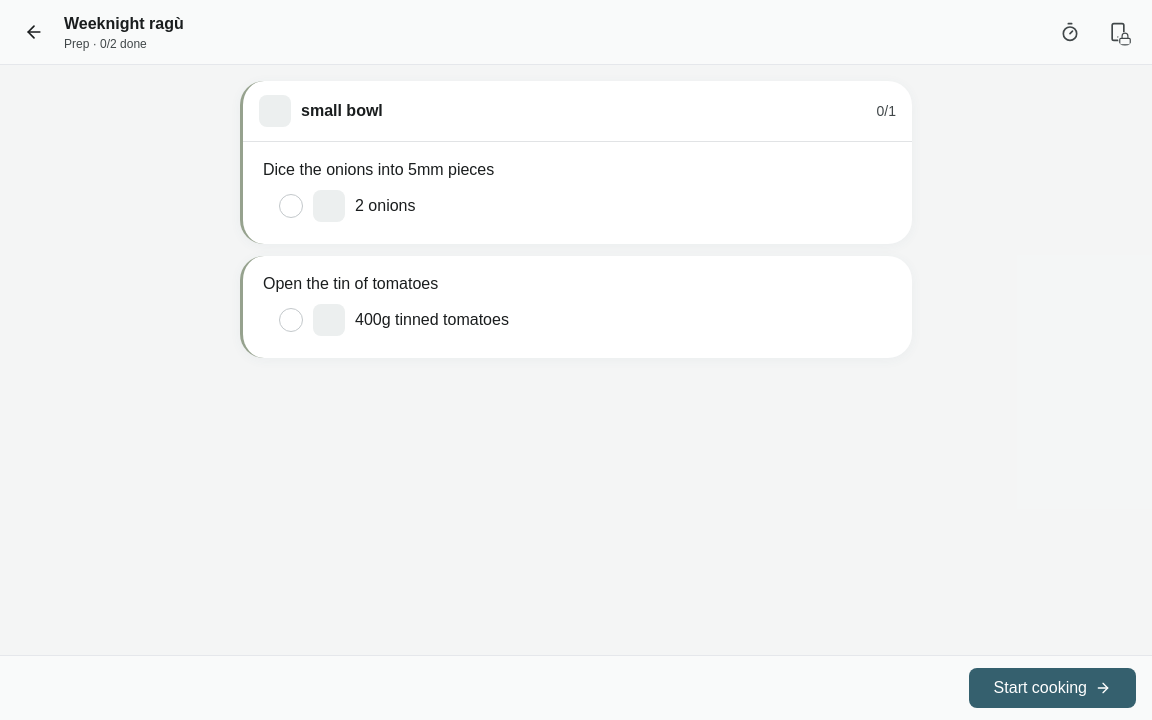
Test case: GuidedCookPage — the steps carry the plan-s notes › shows the recipe-s own words unchanged, with the plan-s lines underneath
Click the button with test id "cook-stage-toggle" at (1052, 688), box [969,668,1136,708]
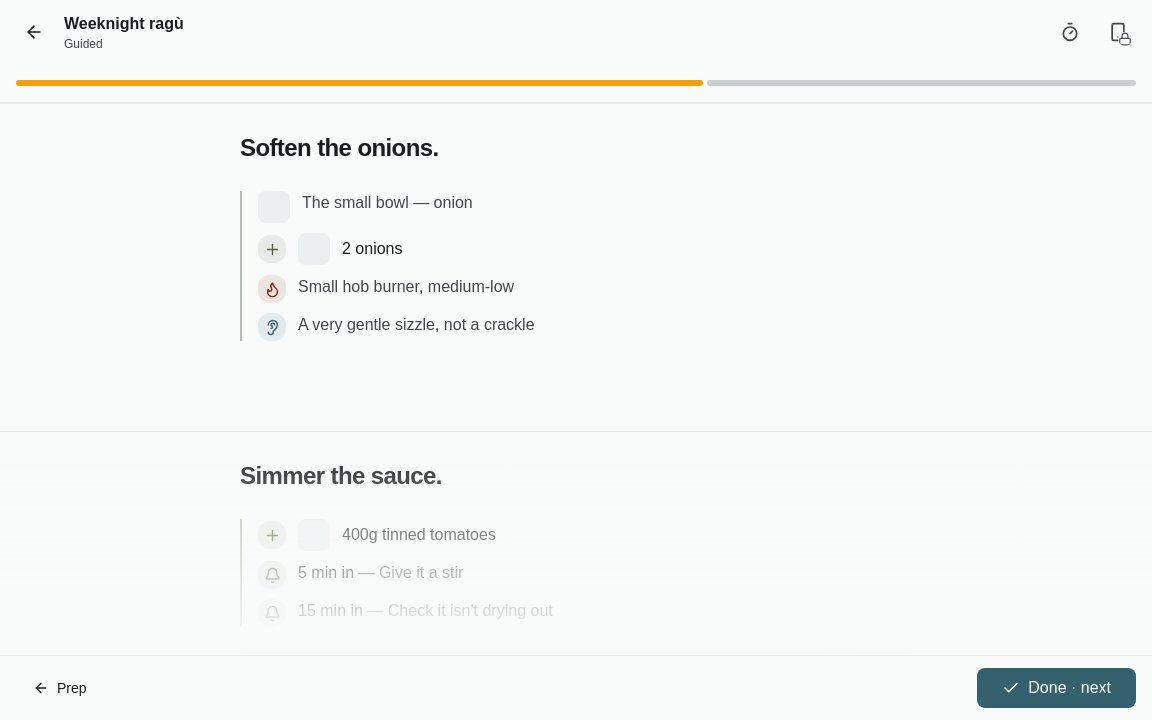
Result: the element with test id "cook-steps-view" is shown
Result: the element with test id "cook-step" shows "Soften the onions." at [240,134,438,161]
Result: the list item with test id "guided-step-note-container" reads "The small bowl — onion" at [302,194,473,211]
